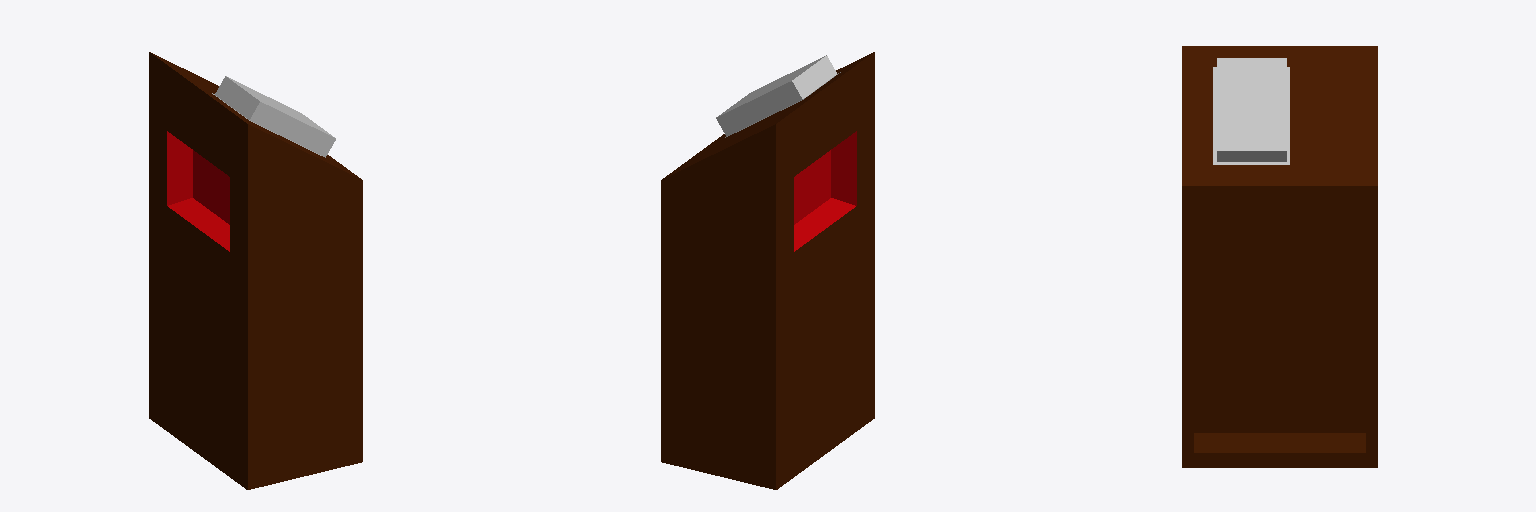
The model's file is hostStand.obj.
3 views of the same model, side by side, from view 1: azimuth 30°, elevation 25°; view 2: azimuth 150°, elevation 25°; view 3: azimuth 270°, elevation 25° (orthographic).
Parts seen in each view (by area): view 1: Cube_Cube.014; view 2: Cube_Cube.014; view 3: Cube_Cube.014.
Part boxes in pixels (bbox=[...]): Cube_Cube.014: bbox=[149, 52, 362, 489]; Cube_Cube.014: bbox=[661, 52, 874, 489]; Cube_Cube.014: bbox=[1182, 46, 1377, 467].
Size of the model in its own units: 0.1577 by 0.4818 by 0.2334.